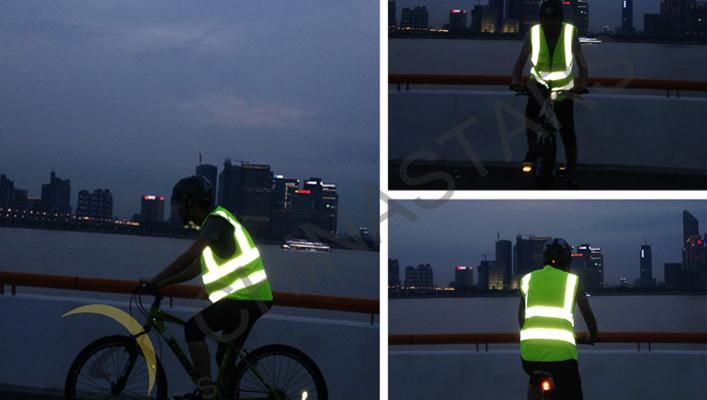Vest: (191, 210, 276, 301), (516, 266, 584, 361), (527, 22, 579, 98)
